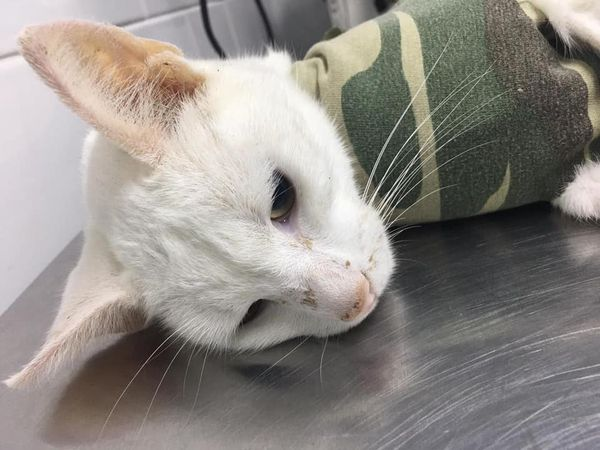cat: (5, 1, 595, 400)
